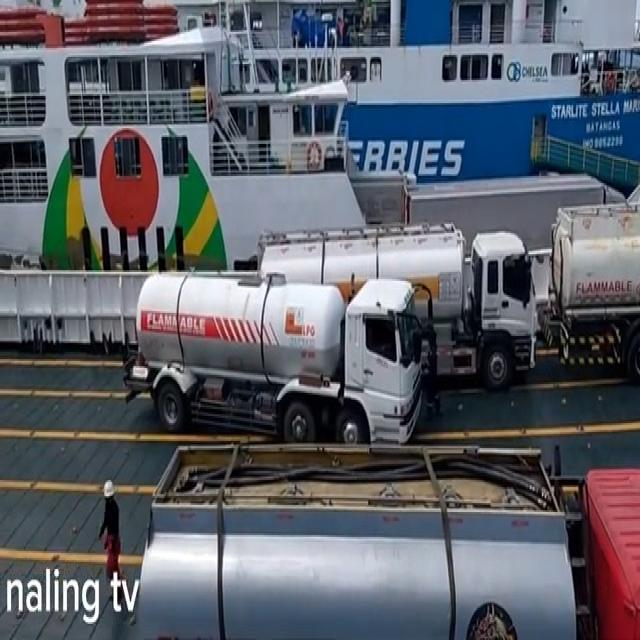truck: (138, 439, 640, 640), (122, 272, 423, 456), (263, 222, 540, 389), (547, 196, 640, 377)
